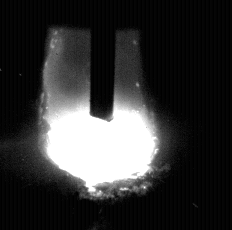arame: (91, 0, 115, 122)
poca: (46, 0, 154, 230)
